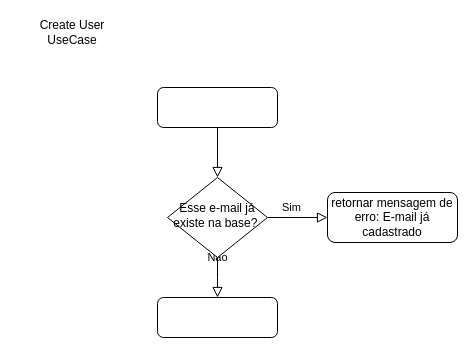
The diagram is 475 pixels wide and 355 high, and some of its shapes have lost their labels. The shapes that lost their labels are listed below. From the top down, each one's centre as x and y in pixels, then its label:
At (217,107): "Criação de Usuário".
At (217,317): "Cadastrar Usuário".
